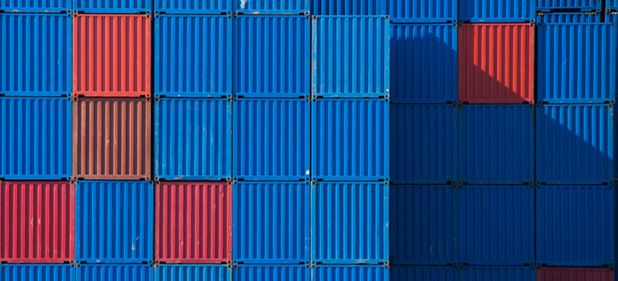container_no_door: (154, 13, 233, 97), (308, 182, 387, 266), (152, 95, 231, 179), (75, 180, 154, 264), (72, 94, 151, 178), (73, 12, 151, 96), (311, 15, 389, 99), (537, 102, 615, 186), (536, 187, 614, 271), (459, 186, 537, 270), (307, 101, 385, 185), (234, 182, 312, 266), (154, 179, 232, 263), (233, 12, 311, 95), (232, 96, 310, 179), (385, 19, 459, 103), (462, 22, 535, 106), (389, 101, 462, 185), (387, 184, 461, 266), (462, 102, 535, 185), (538, 21, 610, 104), (1, 95, 72, 179), (1, 179, 72, 263), (1, 12, 69, 95)
